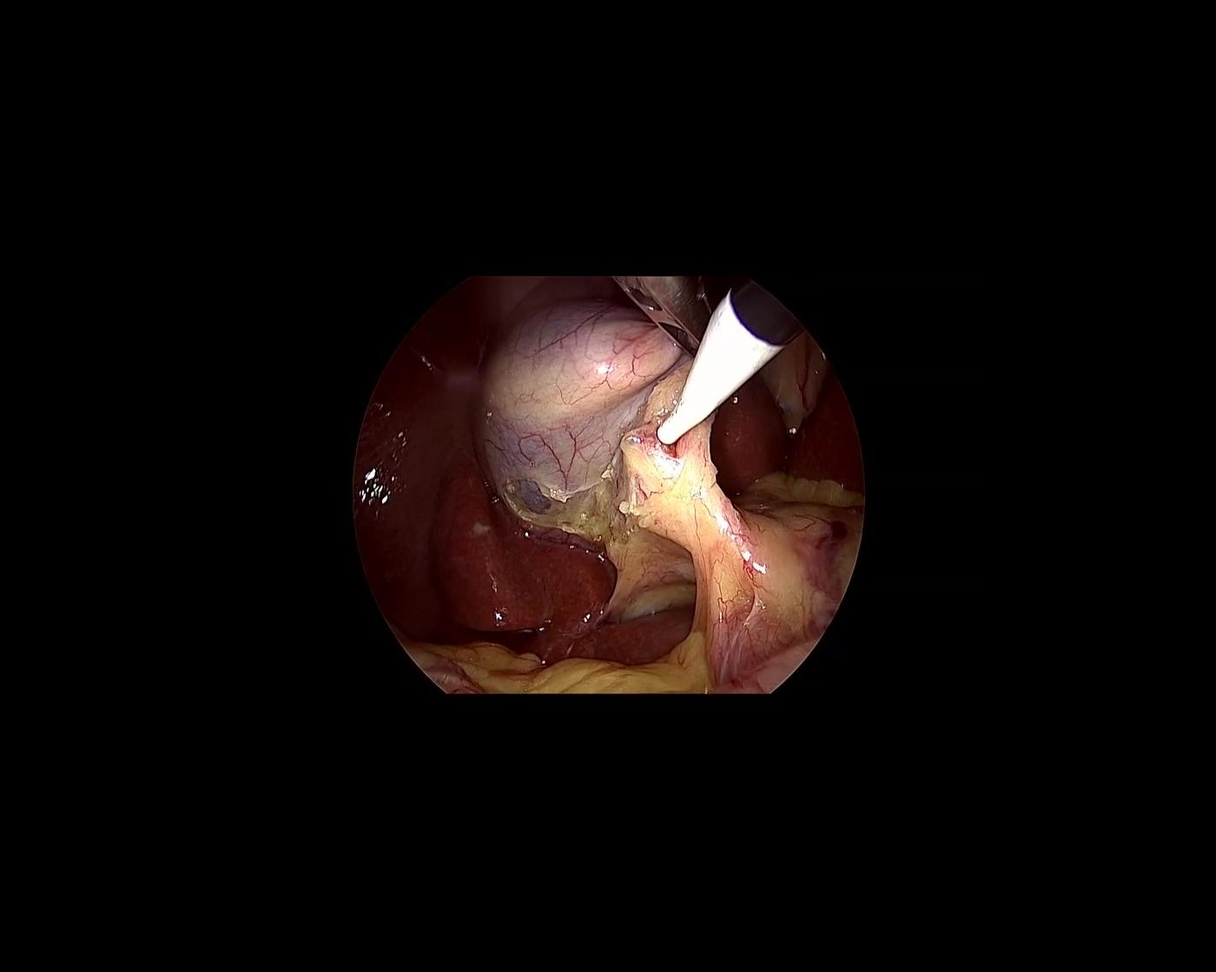Cautery: (615, 273, 804, 453)
Gallbladder: (443, 270, 736, 563)
Liver: (309, 248, 698, 711), (709, 330, 862, 508)
